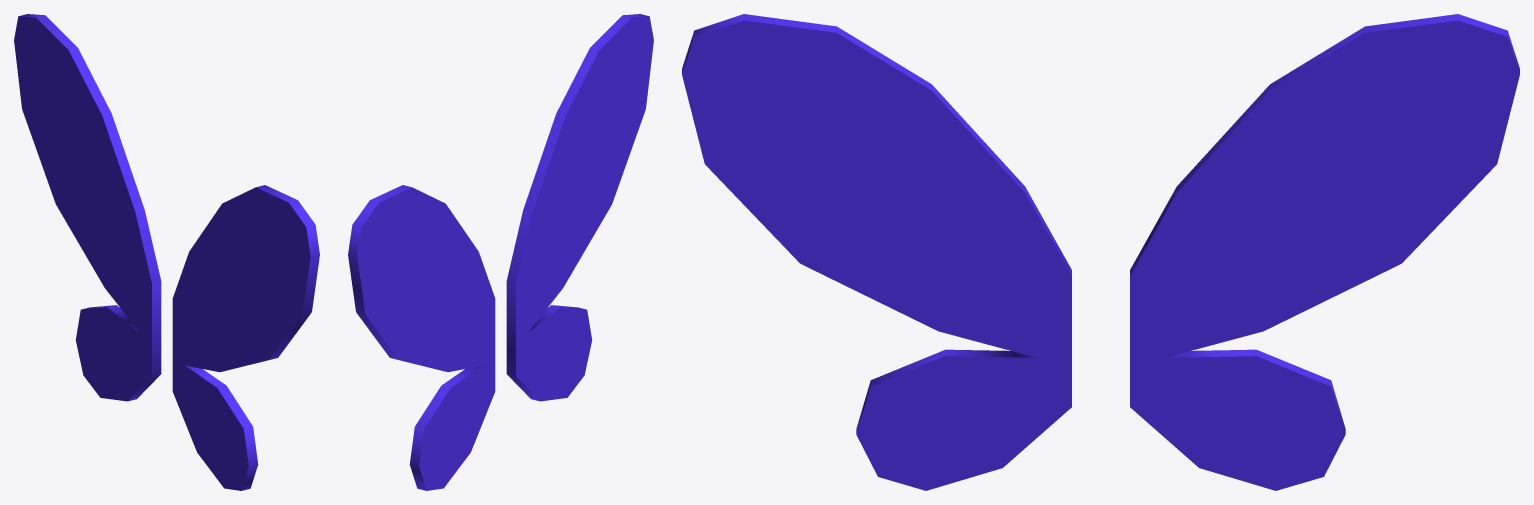
The model's file is fairy wings.FBX.
3 views of the same model, side by side, from view 1: azimuth 30°, elevation 25°; view 2: azimuth 150°, elevation 25°; view 3: azimuth 270°, elevation 25° (orthographic). The views are drawn at different scales.
Visible parts, largest first — view 1: Box1227; view 2: Box1227; view 3: Box1227.
Part boxes in pixels (x1,y1,x2,y2): Box1227: (14,14,319,490); Box1227: (348,14,653,490); Box1227: (682,14,1519,490).
Size of the model in its own units: 0.0561 by 1.9 by 3.07.
